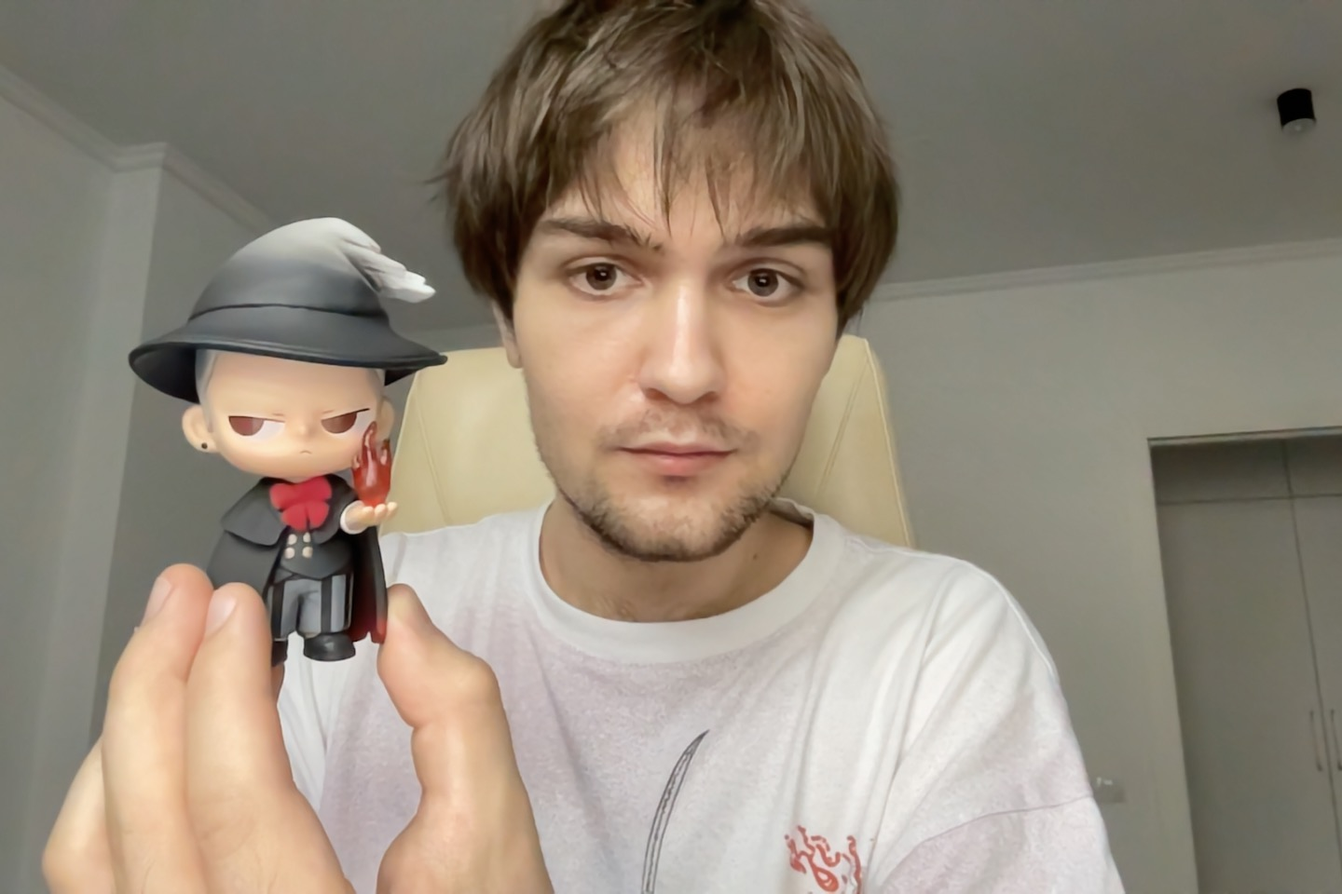magician: (121, 208, 455, 669)
